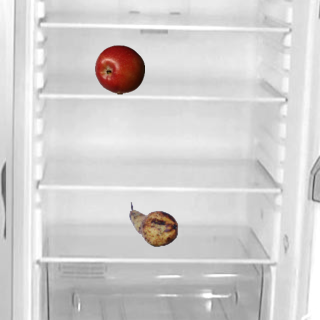Apple Braeburn: (94, 44, 144, 94)
Pear Abate: (128, 199, 178, 249)
